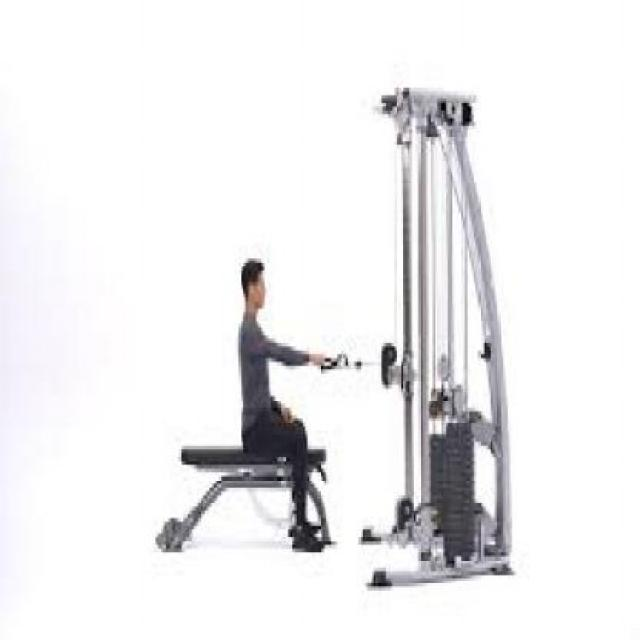Seated Cable Rows: (149, 78, 517, 577)
